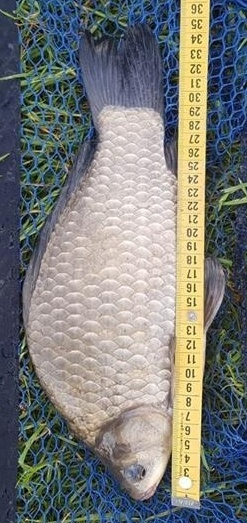Carassius carassius: (20, 20, 227, 503)
